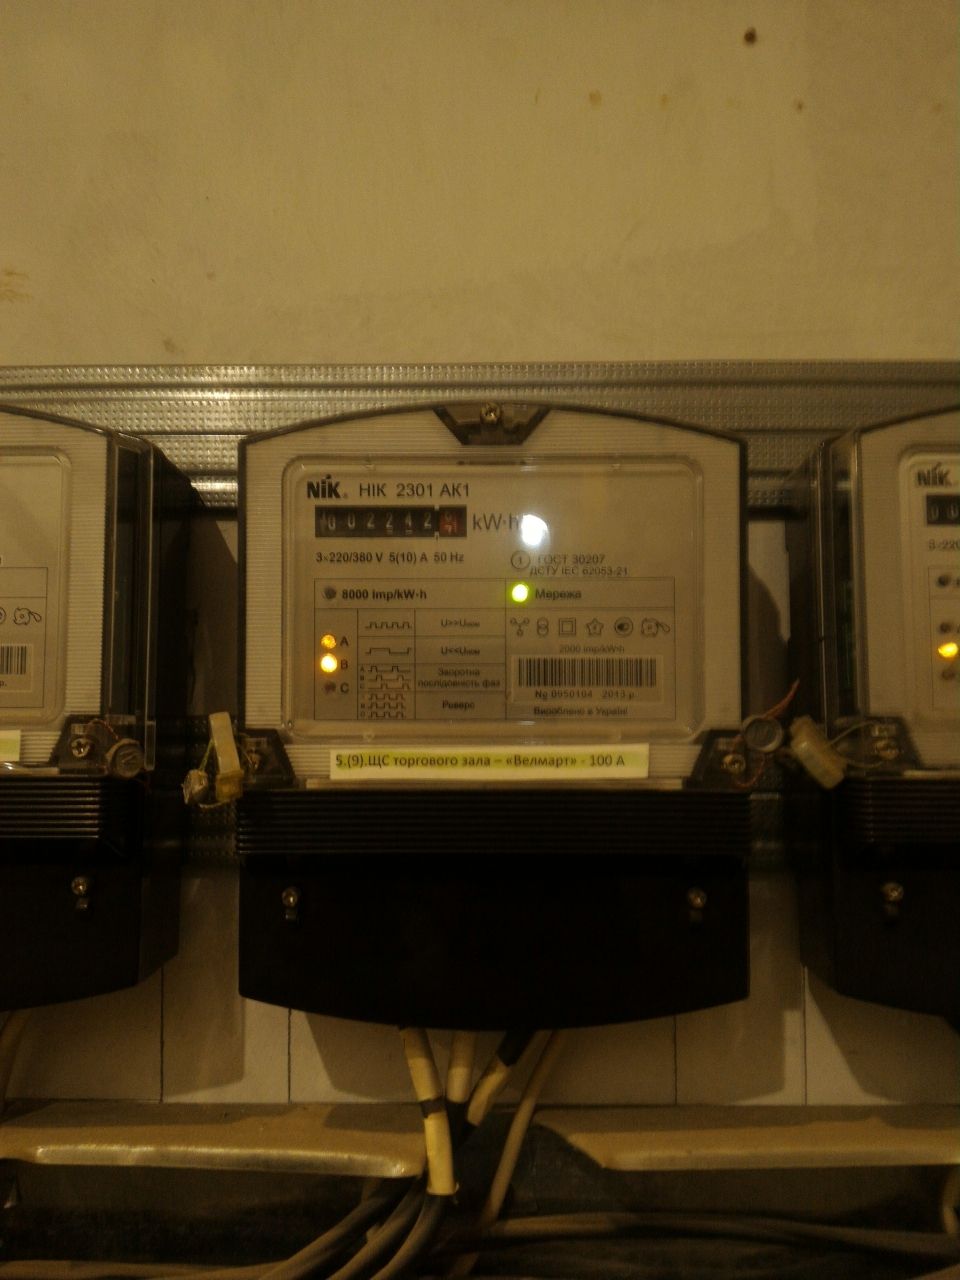0: (929, 501, 940, 520), (326, 512, 337, 530), (346, 511, 357, 529), (949, 500, 959, 519)
2: (383, 511, 395, 529), (365, 510, 376, 529), (422, 510, 433, 528)
4: (403, 510, 414, 529)
7: (442, 523, 454, 534)
screen: (308, 496, 475, 545), (912, 480, 960, 538)
